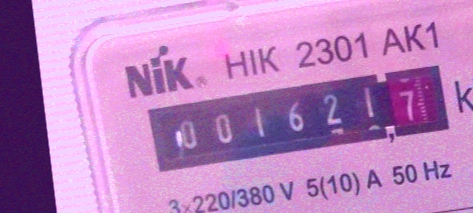0: (211, 105, 237, 144), (177, 111, 200, 147)
1: (360, 78, 378, 116), (251, 99, 269, 136)
2: (321, 86, 346, 124)
6: (284, 94, 307, 130)
7: (396, 82, 420, 120)
screen: (142, 57, 457, 174)
